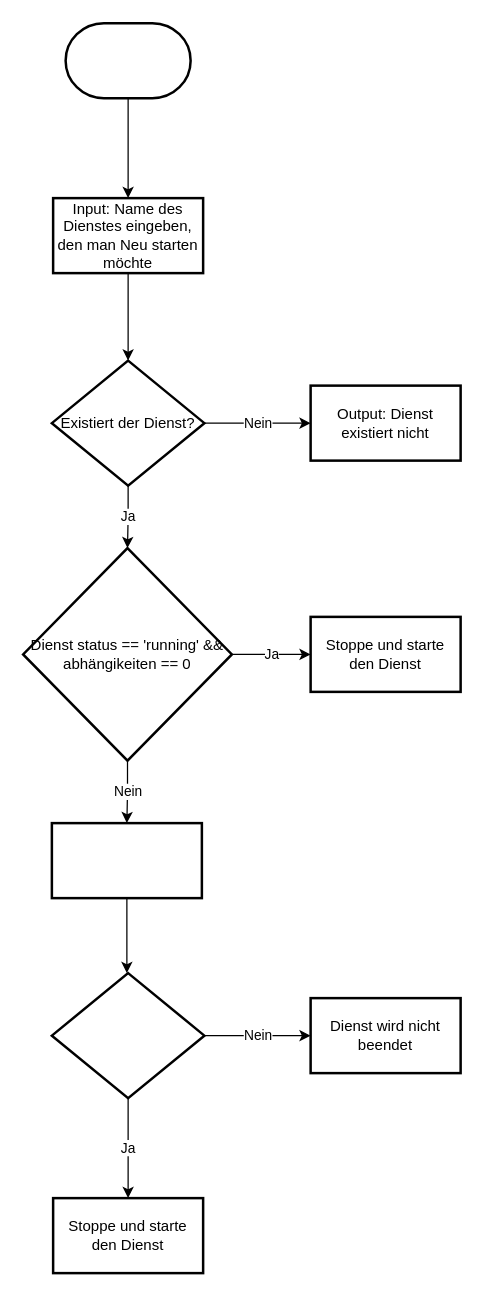
Some shapes in this 483 by 1295 pixel diagram are drawn without their labels. The shapes that lost their labels are listed below. From the top down, each one's centre as x and y in pixels, then its label:
point (127, 60): Start
point (126, 860): Input: Bestätigung, ob Dienst wirklich neu gestartet werden soll
point (127, 1035): Input == 'Y'|| 'y'
